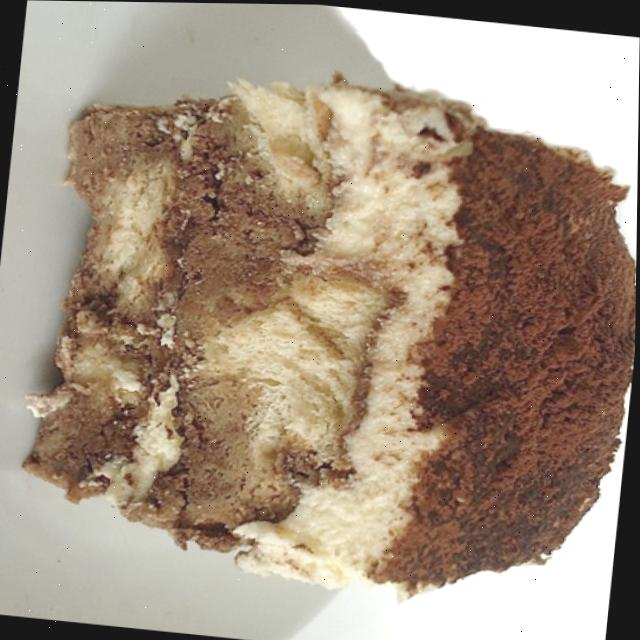蛋糕甜品: (10, 0, 640, 640)
